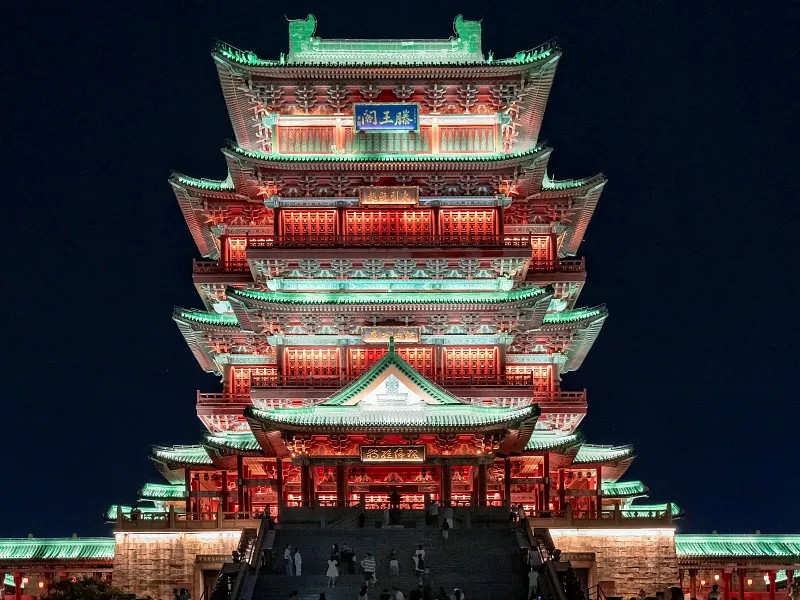Teng: (104, 15, 682, 527)
